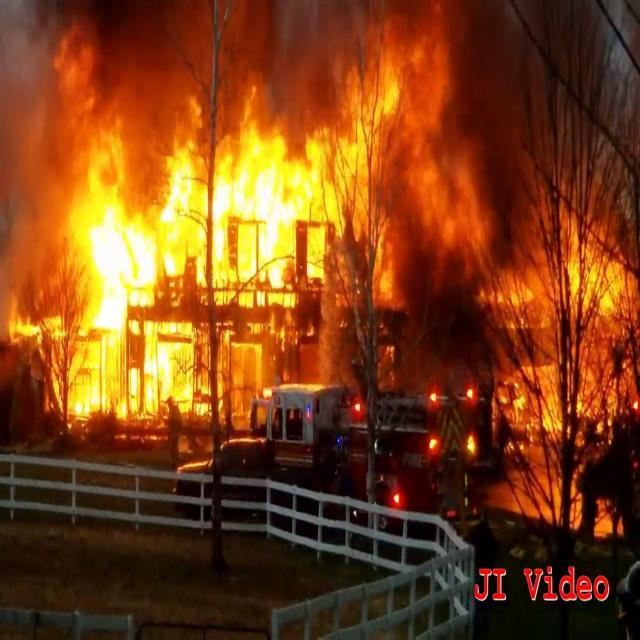Fire: (16, 92, 344, 440), (496, 208, 640, 518)
Smoke: (380, 1, 624, 272), (0, 2, 77, 296)
